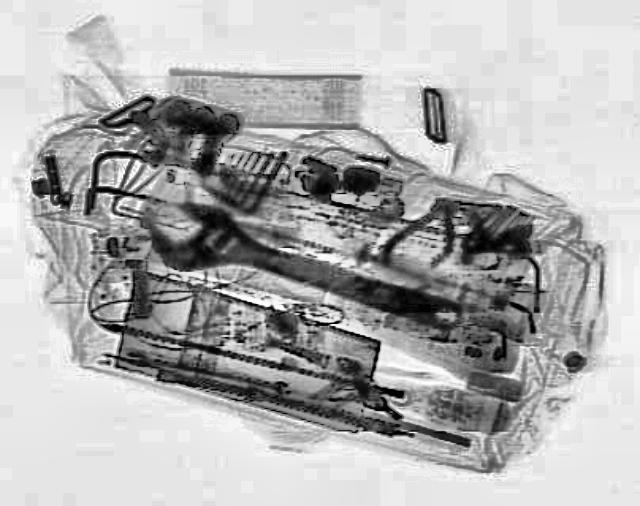Pliers: (376, 187, 476, 272)
Wrench: (118, 188, 478, 352)
